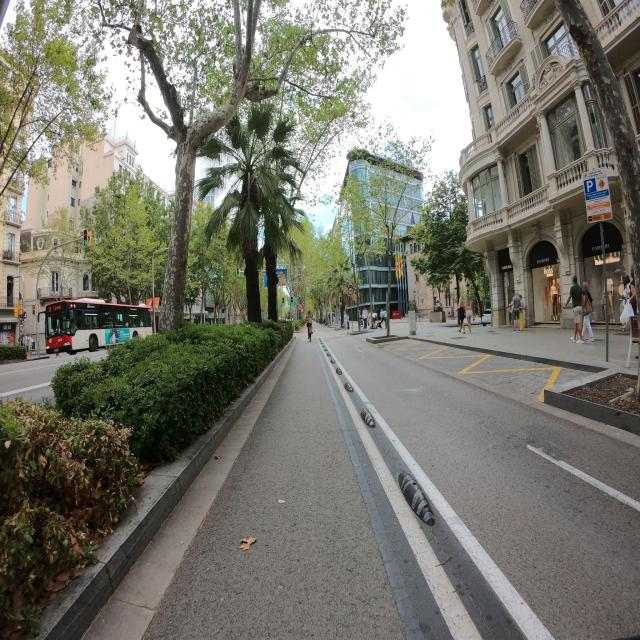bike: (307, 324, 313, 342)
